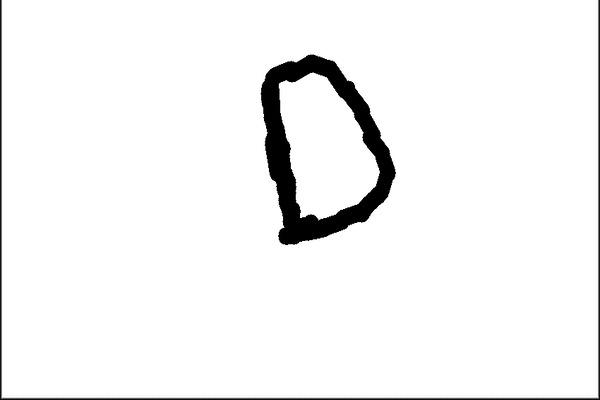D: (250, 48, 400, 252)
